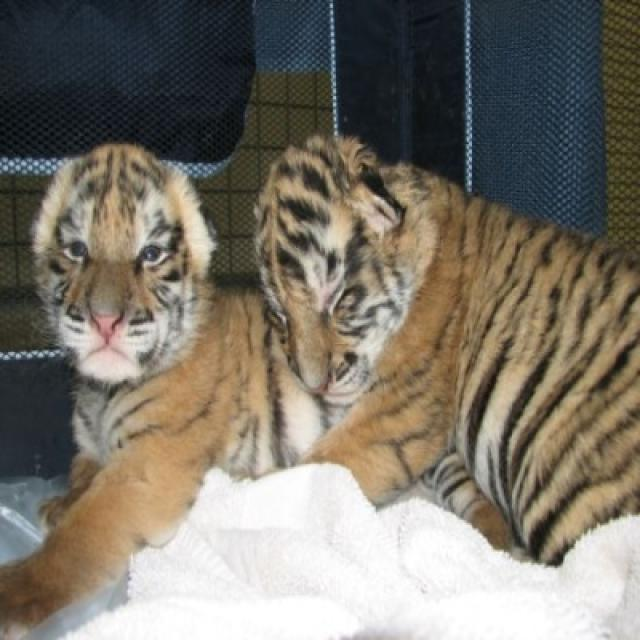Tiger: (0, 139, 638, 637)
